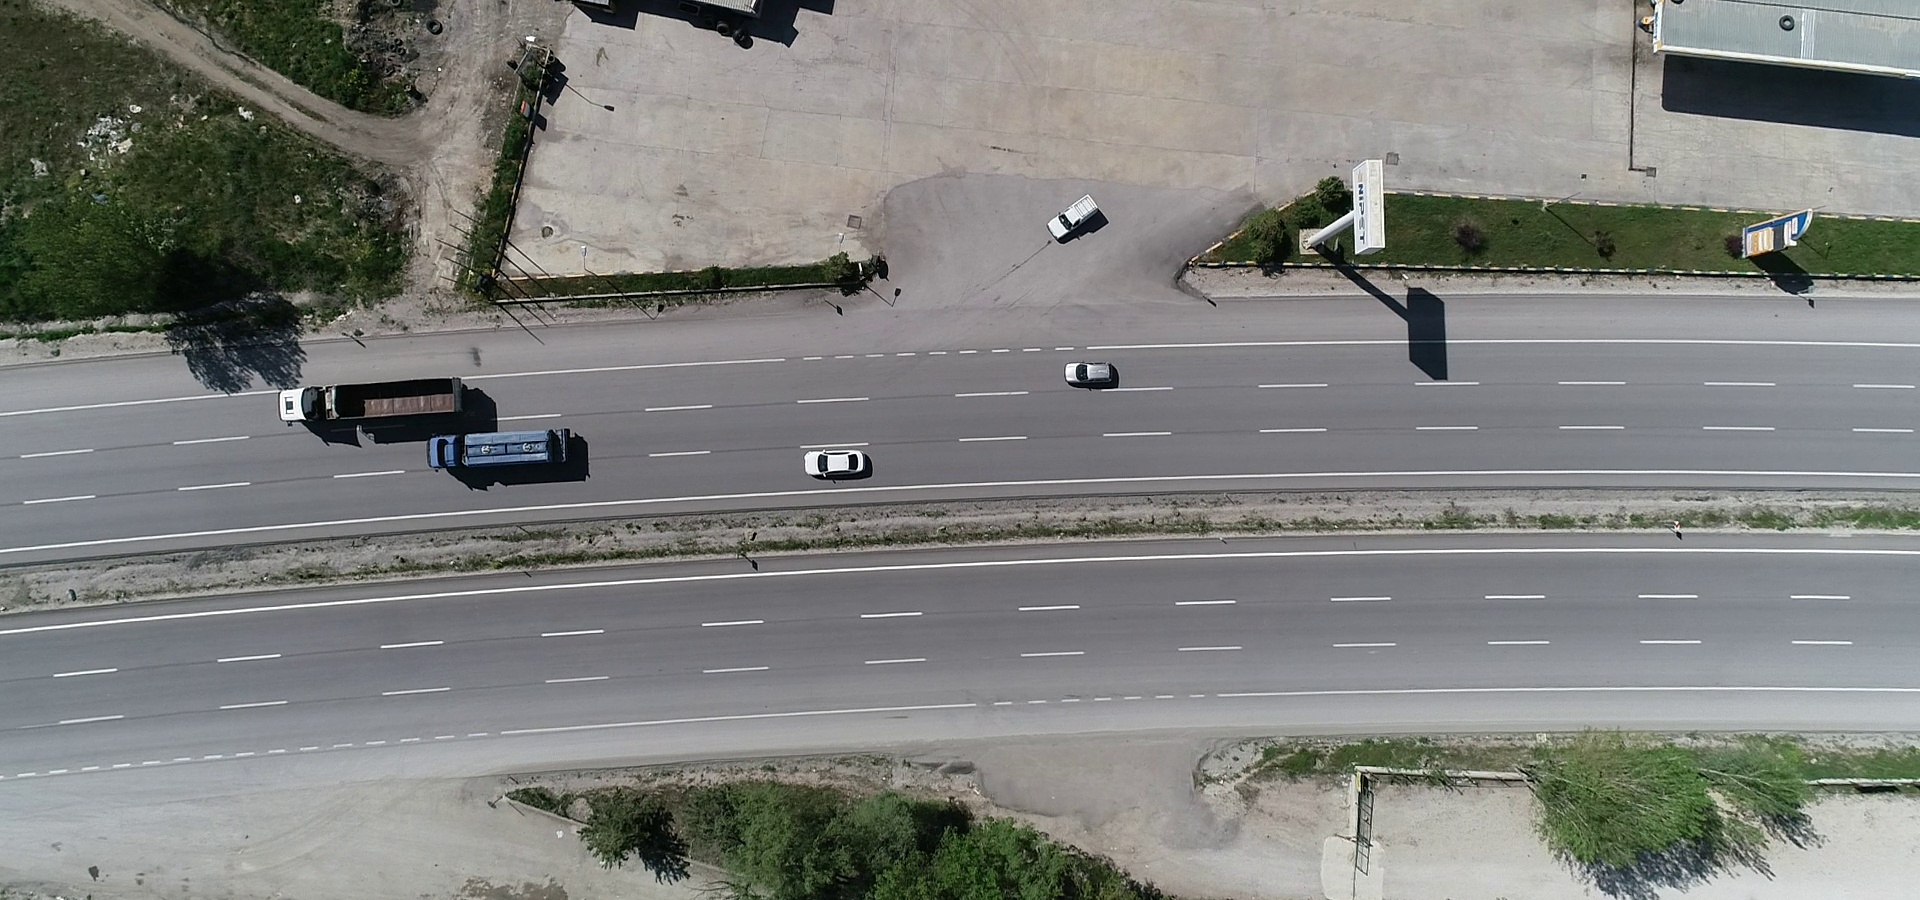araba: (796, 447, 883, 487), (1044, 193, 1101, 244), (1060, 358, 1135, 389)
kamyon: (276, 371, 478, 435), (421, 426, 584, 481)
